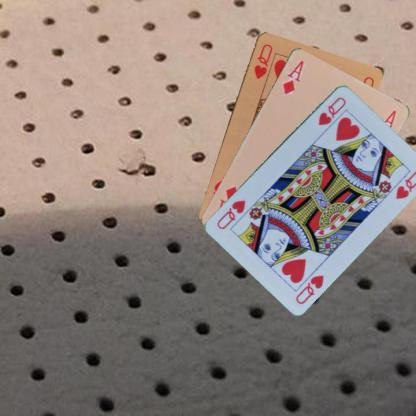Ad: (280, 57, 305, 97)
Qh: (293, 272, 325, 306), (316, 94, 348, 126), (251, 41, 274, 80)
